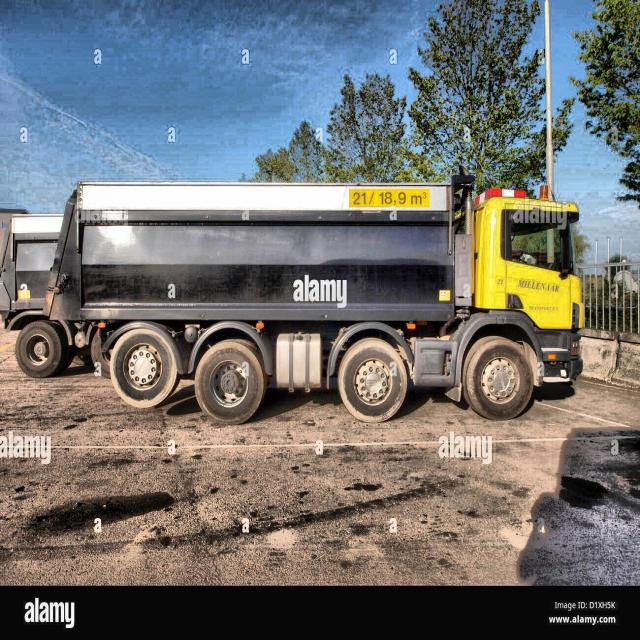dump_truck: (0, 176, 590, 438)
